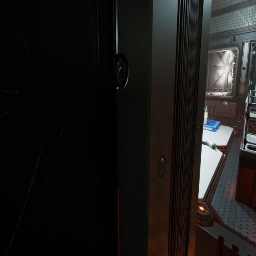0: (206, 139, 217, 149), (204, 106, 208, 124), (204, 105, 207, 123)
FireAlarm ,: (241, 82, 244, 88)
FireExtinguisher ]: (233, 131, 240, 137)
NitrogenTank ,: (204, 100, 206, 121)
